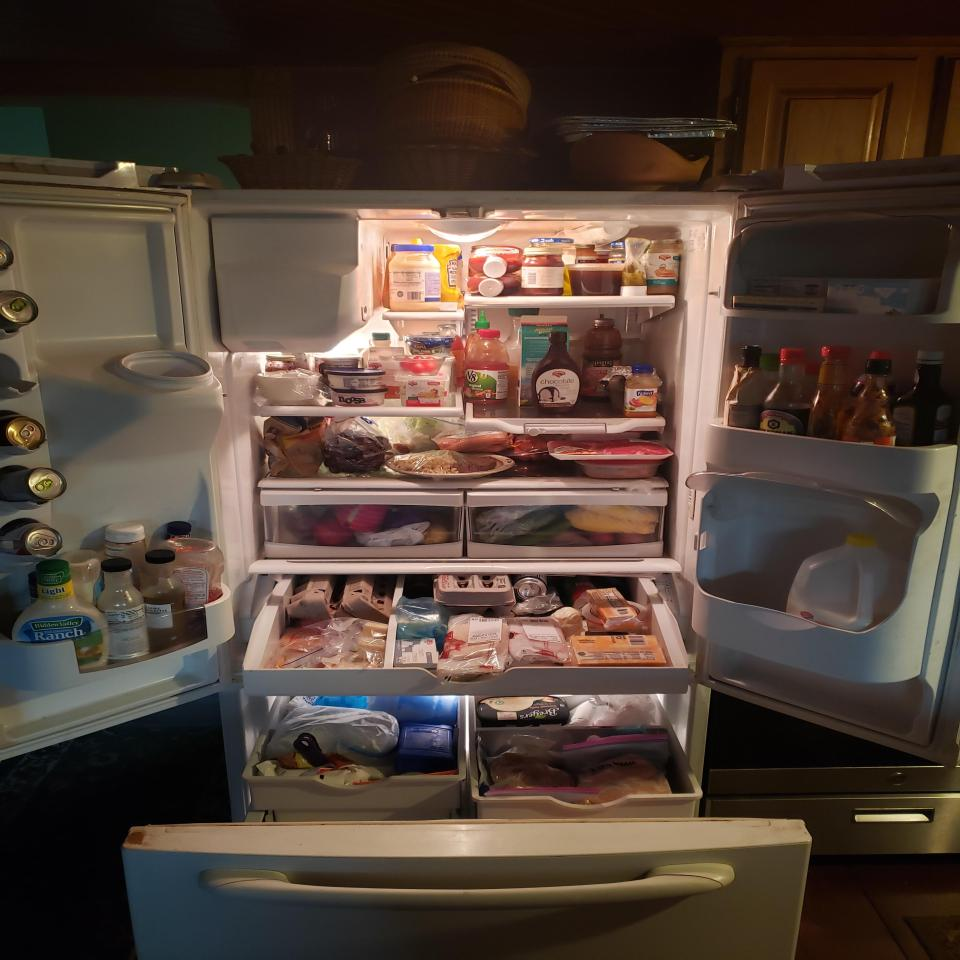Huevos: (434, 573, 515, 614), (341, 575, 391, 622), (289, 575, 331, 619)
Leche: (787, 535, 907, 631)
Pepino: (508, 520, 572, 546)
Queso: (568, 634, 667, 668)
Tomate: (401, 356, 437, 374)
